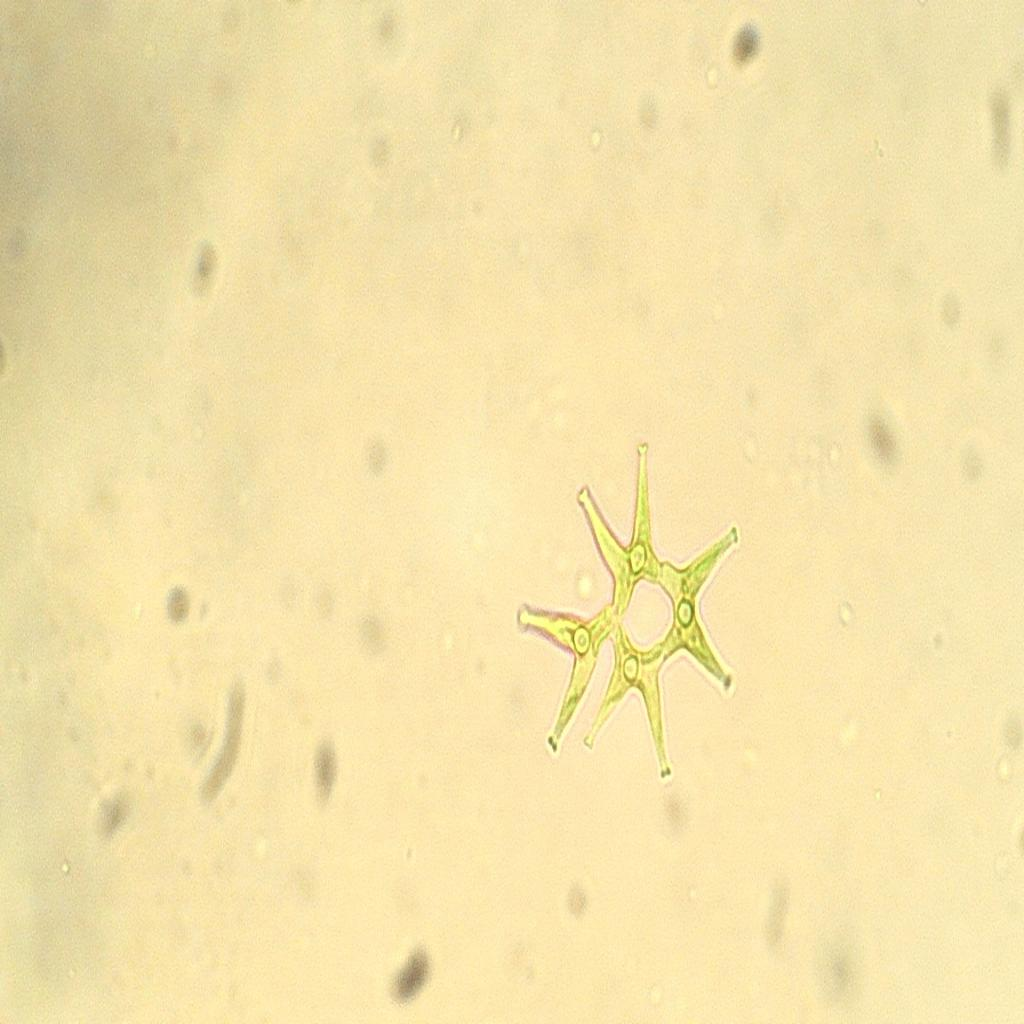Pediastrum_75FI: (512, 415, 746, 798)
